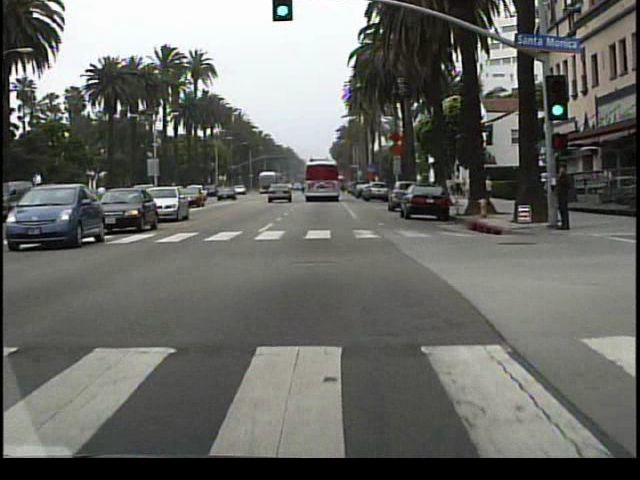person: (550, 160, 573, 235)
